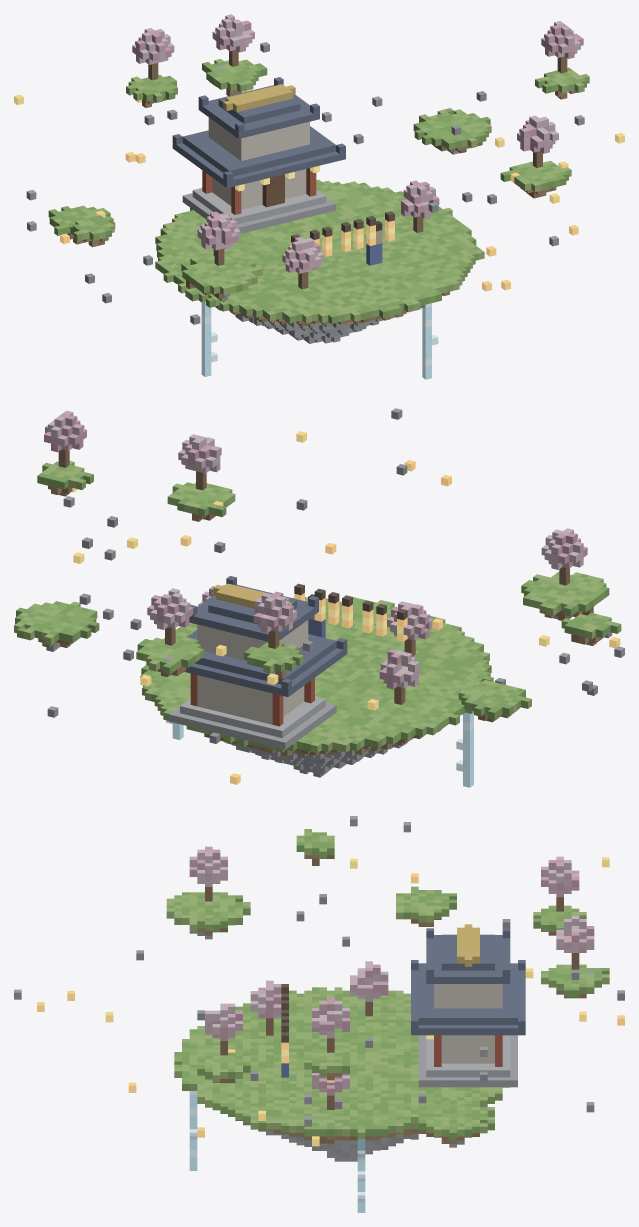
Rendered from xiyou_world.glb.
The picture shows the model from 3 angles, top to bottom: view 1: azimuth 30°, elevation 25°; view 2: azimuth 150°, elevation 25°; view 3: azimuth 270°, elevation 25°; orthographic projection. The views are drawn at different scales.
Visible parts, largest first — view 1: xiyou_world; view 2: xiyou_world; view 3: xiyou_world.
Boxes of the visible parts, box(x1,y1,x2,y2) form: xiyou_world: box(14, 14, 624, 379); xiyou_world: box(14, 408, 624, 787); xiyou_world: box(14, 816, 624, 1212).
Bounding box in the file's own units: 39.6 × 18 × 36.
